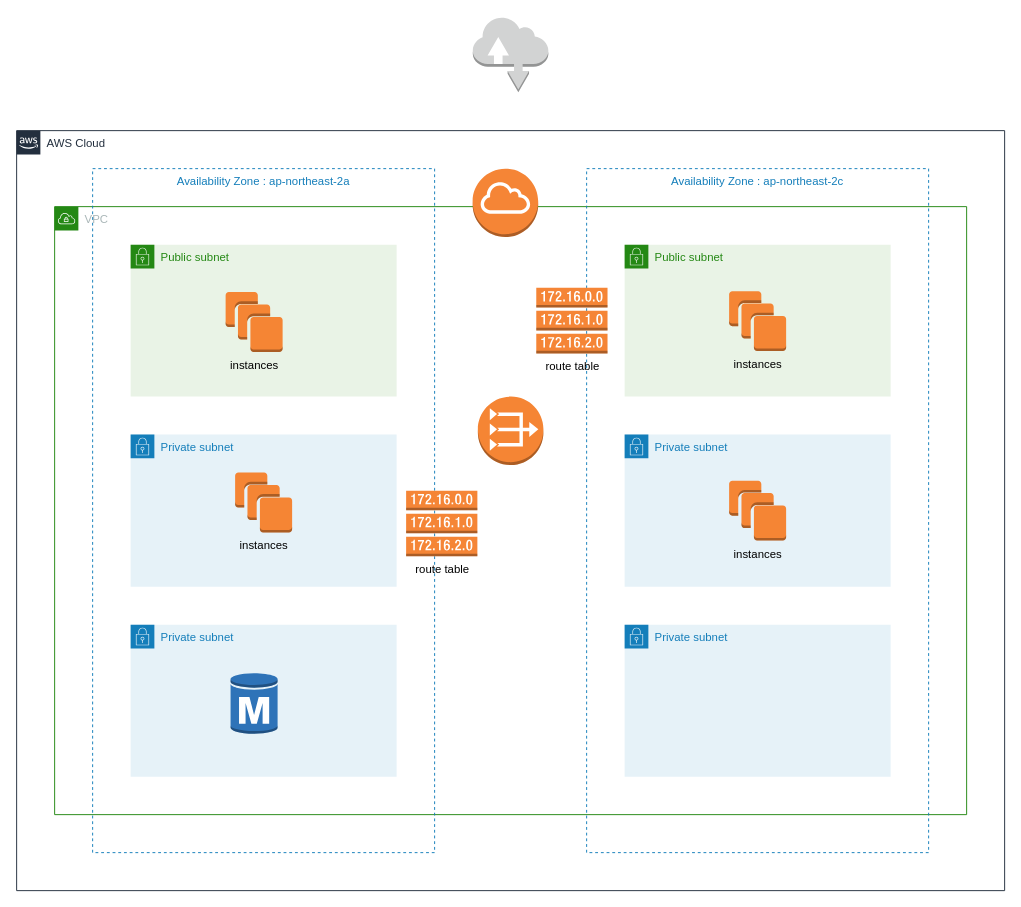
Image size: 1021x907. Some labels were removed from this diagram. Here are the shapes that lost their labels. From the top down, the box of each, then its label:
(472, 16, 548, 92): internet
(472, 168, 538, 237): internet gateway
(477, 396, 543, 465): nat gateway
